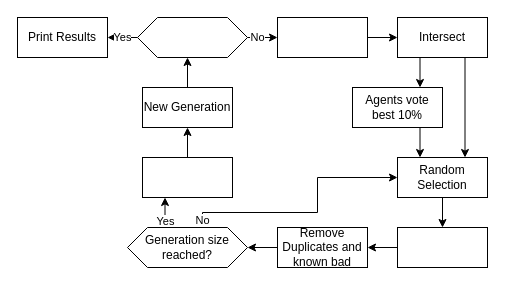
This 505x286 diagram has some shape labels left out. Here are the shapes that lost their labels. From the top down, the box of each, then its label:
(136, 16, 248, 58): Max Generations reached?
(276, 16, 368, 58): Agents vote
(142, 156, 232, 198): Mutation
(396, 226, 488, 268): Crossover
